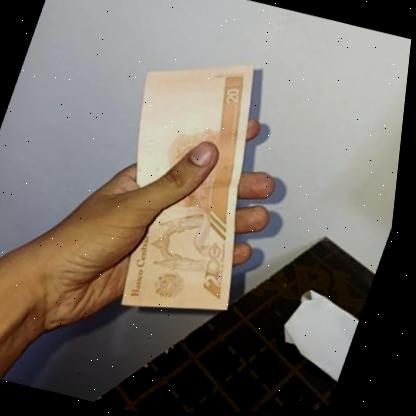twenty-back-vef: (72, 38, 313, 333)
